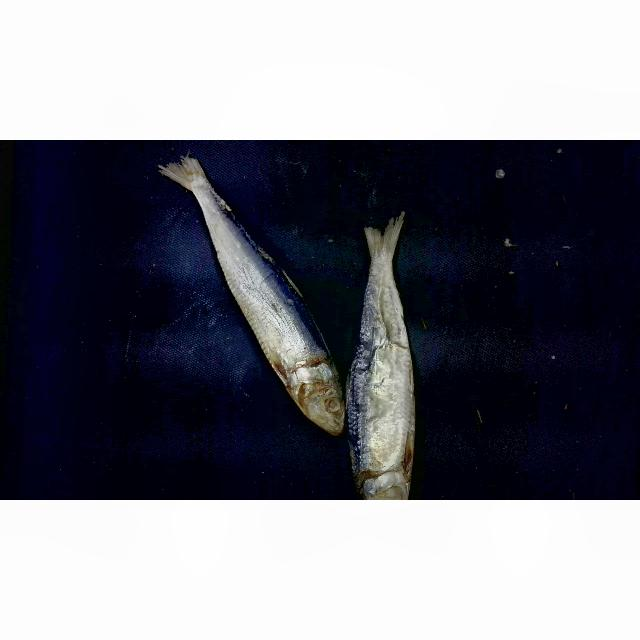Grade_A_Body: (211, 251, 341, 363), (347, 336, 422, 466)
Grade_A_Head: (273, 367, 354, 437)
Grade_A_Tail: (150, 156, 276, 248), (353, 213, 424, 330)
